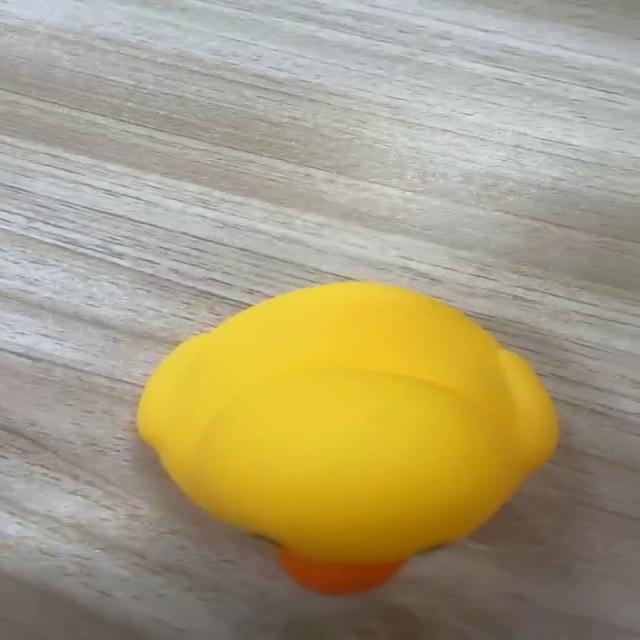yellow_duck: (134, 280, 561, 595)
